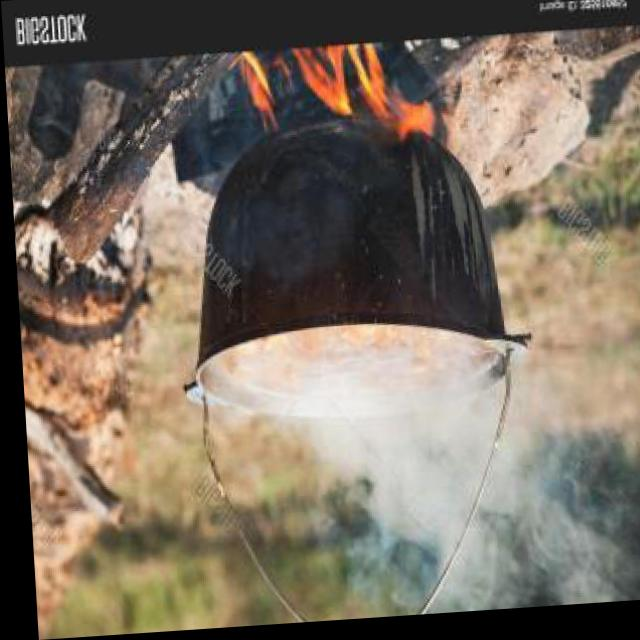Fire: (280, 377, 639, 626), (228, 15, 444, 153)
